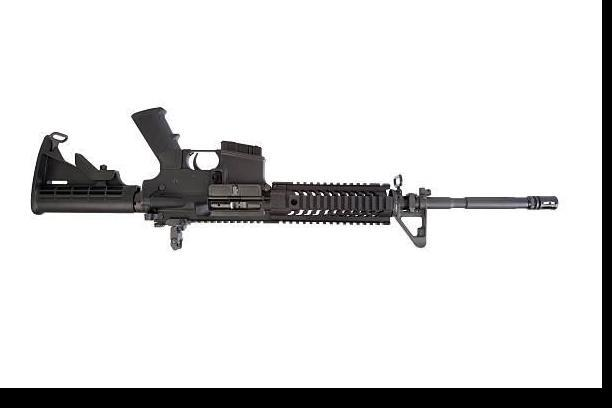larga: (30, 107, 559, 250)
